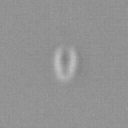abnormal: (57, 1, 80, 42)
